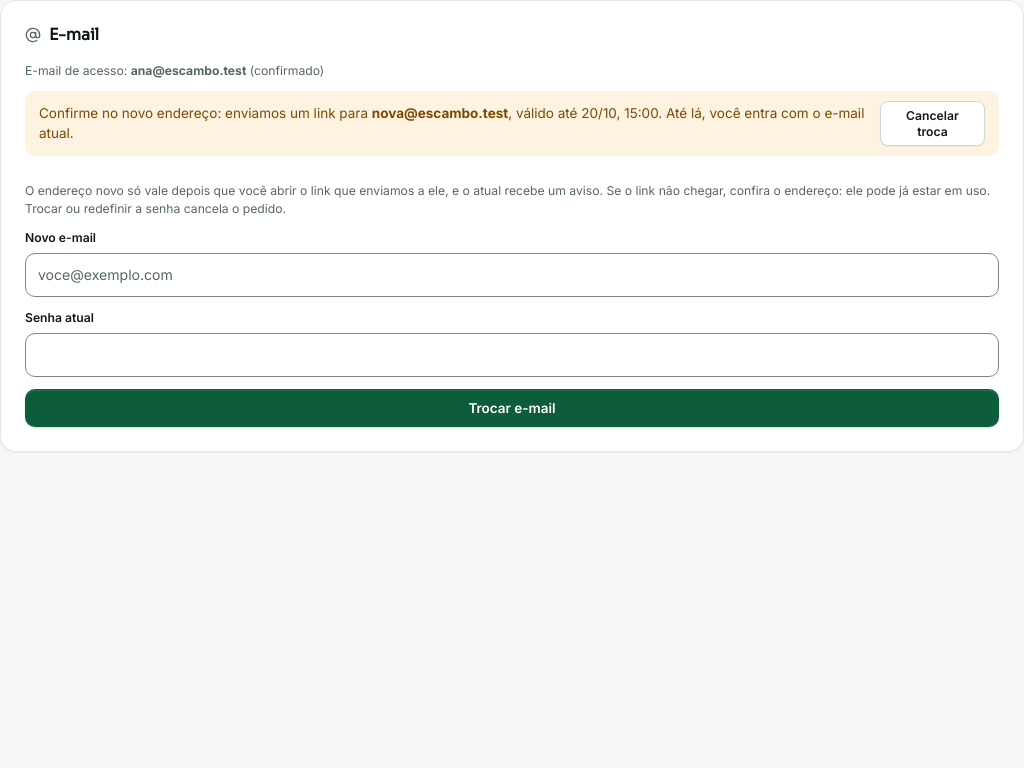
EmailCard › cancelar que falha mantém o aviso e mostra o erro
This screenshot has width=1024, height=768.
Click the button "Cancelar troca" at point(932, 124), box [880,101,985,146]
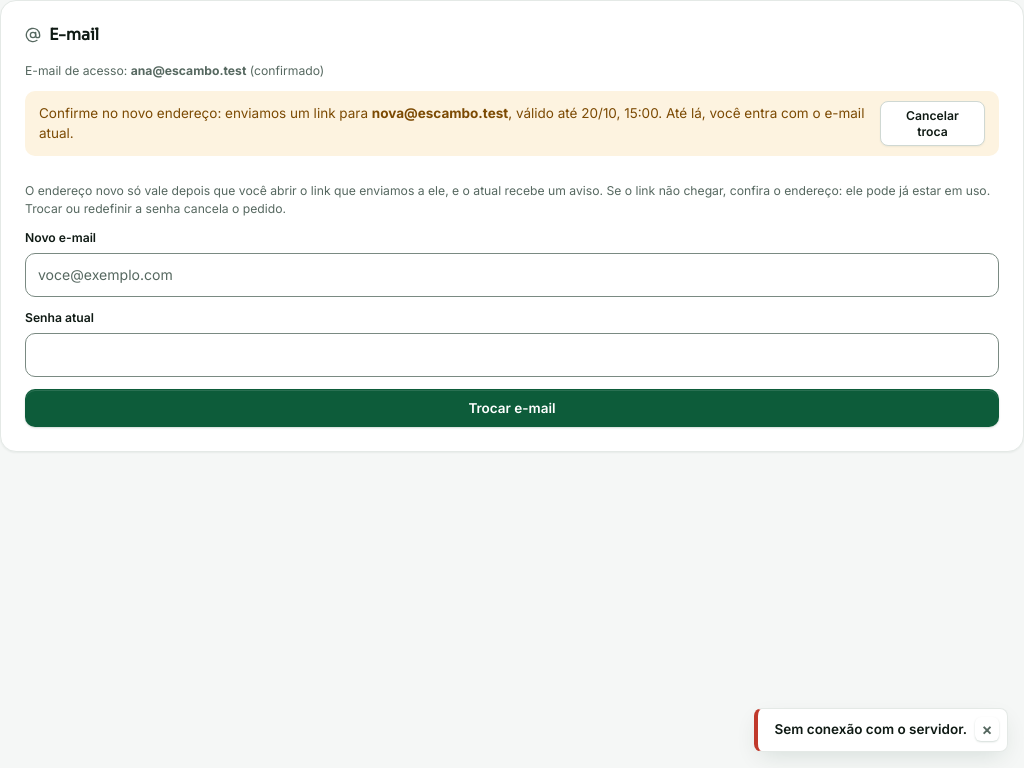
Expected: the message with test id "email-pendente" is shown, [25,91,999,156]
Now the text "Sem conexão com o servidor." is shown, box [774,720,967,740]
